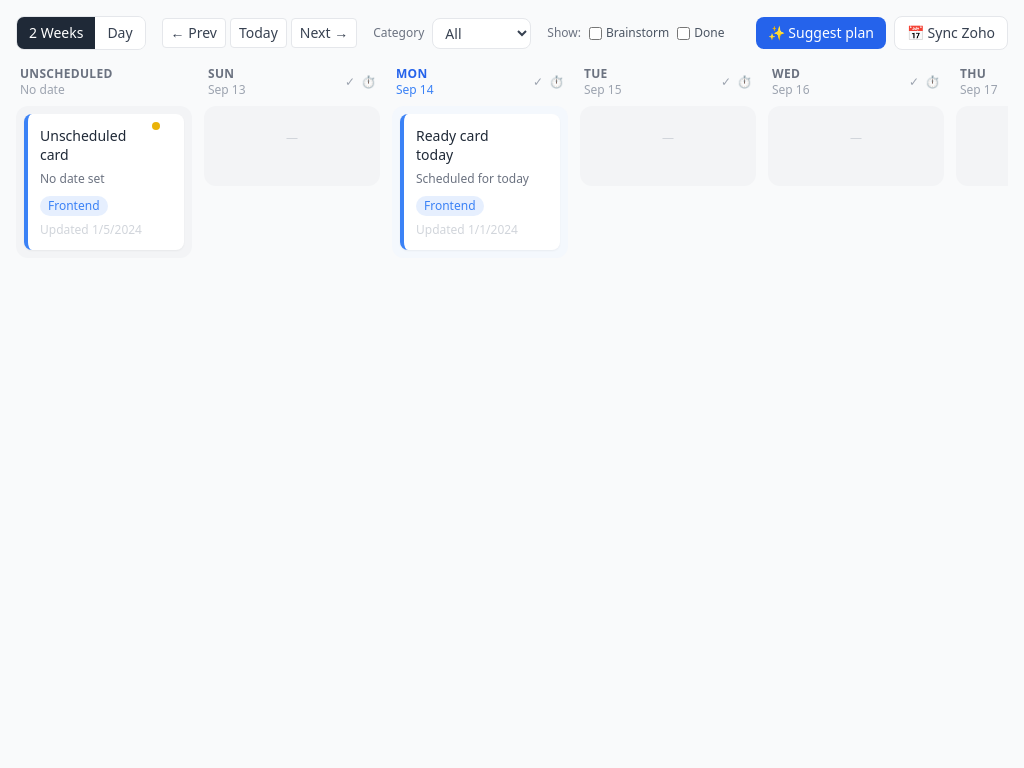
Test: CalendarView › opens the Close the Day modal when the button is clicked
What coordinates should you click on to do the following:
click the button named "close the day for"
I would click on:
 (350, 82)
Its box is [345,74,355,90].
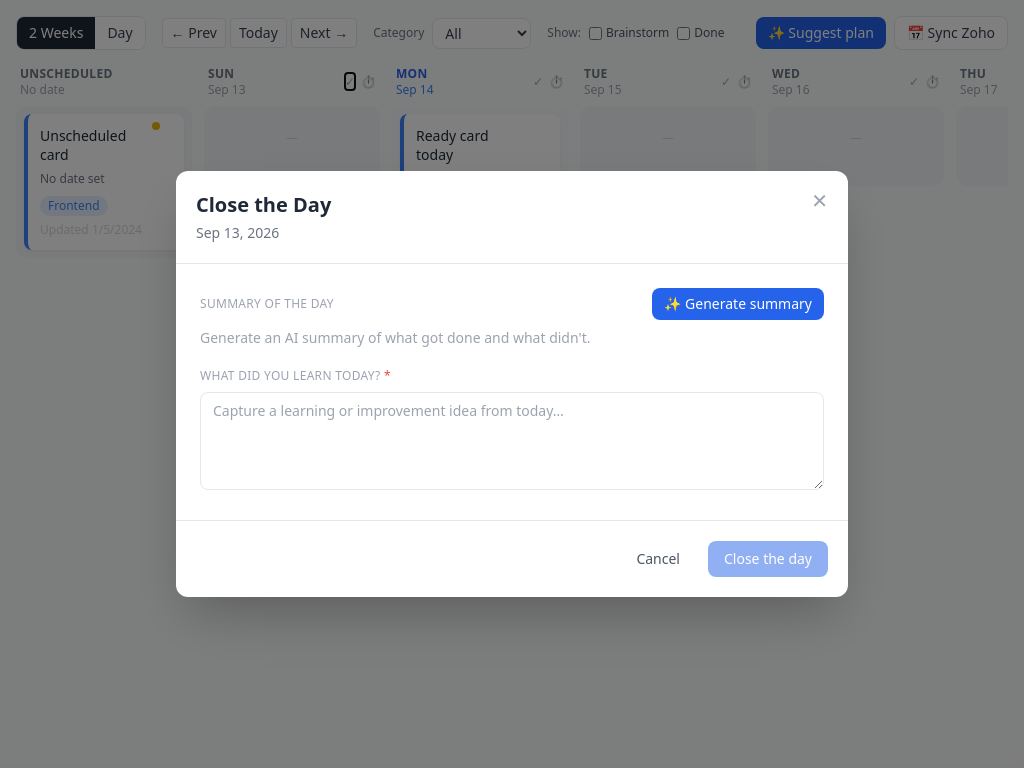
Expected: the dialog with test id "close-day-modal" is shown
Expected: the heading "Close the Day" is shown, [196,191,331,219]
